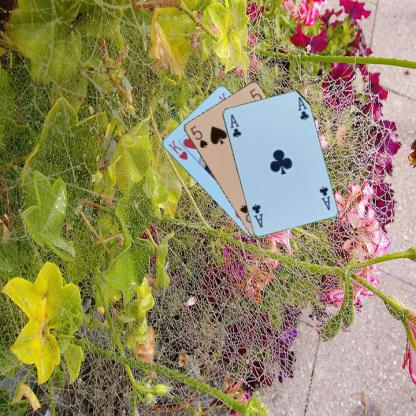5s: (187, 123, 208, 150)
Ac: (317, 184, 331, 211), (228, 112, 242, 138)
Kh: (166, 138, 189, 161)
